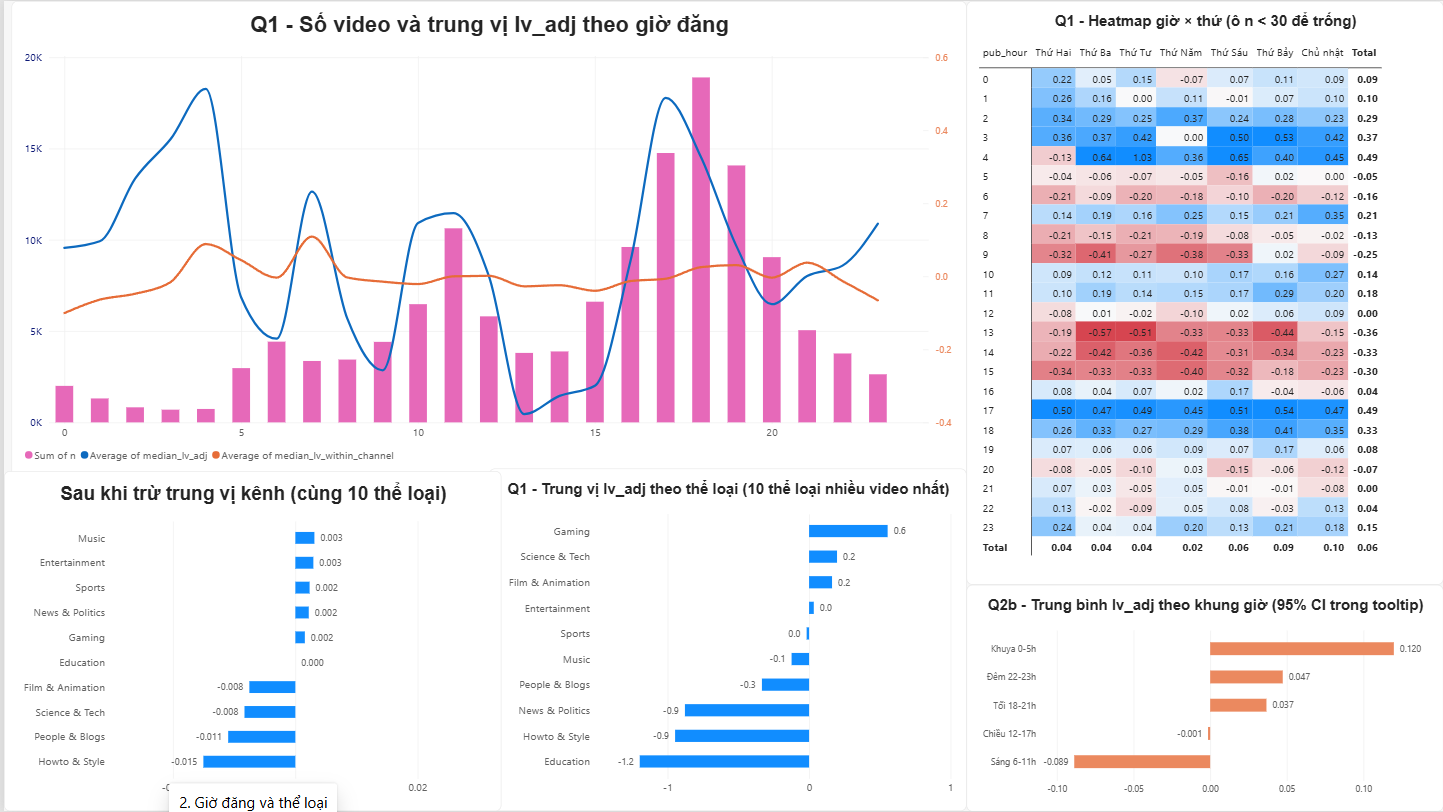

The dashboard page shown, as its layout file describes it:
{"tool":"powerbi","page":{"name":"2. Giờ đăng và thể loại","canvas":[1920,1080],"ordinal":1},"visuals":[{"type":"lineClusteredColumnComboChart","title":"Q1 - Số video và trung vị lv_adj theo giờ đăng","fields":{"Category":["q1_by_hour.pub_hour"],"Y":["Sum(q1_by_hour.n)"],"Y2":["Avg(q1_by_hour.median_lv_adj)","Avg(q1_by_hour.median_lv_within_channel)"]},"box":[10.5,0,1273.3,636.6],"z":0},{"type":"pivotTable","title":"Q1 - Heatmap giờ × thứ (ô n < 30 để trống)","fields":{"Columns":["q1_heatmap.dow_name"],"Rows":["q1_heatmap.pub_hour"],"Values":["Avg(q1_heatmap.median_lv_adj_masked)"]},"box":[1284,0,636,778],"z":1000},{"type":"clusteredBarChart","title":"Q1 - Trung vị lv_adj theo thể loại (10 thể loại nhiều video nhất)","fields":{"Category":["q1_by_category.category_name"],"Y":["Avg(q1_by_category.median_lv_adj)"]},"box":[647.1,622.7,636.6,457],"z":2000},{"type":"clusteredBarChart","title":"Sau khi trừ trung vị kênh (cùng 10 thể loại)","fields":{"Category":["q1_by_category.category_name"],"Y":["Avg(q1_by_category.median_lv_within_channel)"]},"box":[0,626.2,663.3,453.3],"z":3000},{"type":"clusteredBarChart","title":"Q2b - Trung bình lv_adj theo khung giờ (95% CI trong tooltip)","fields":{"Category":["q2b_group_means.group"],"Y":["Avg(q2b_group_means.mean_lv_adj)"]},"box":[1284,778,636,302],"z":4000}]}

Visuals, with their boxes in screenshot pixels (x1, y1, x2, y2), scaled from the page's 1920x1080 canvas onto the 1443x812 screenshot:
"Q1 - Số video và trung vị lv_adj theo giờ đăng" lineClusteredColumnComboChart: box(8, 0, 965, 479)
"Q1 - Heatmap giờ × thứ (ô n < 30 để trống)" pivotTable: box(965, 0, 1442, 585)
"Q1 - Trung vị lv_adj theo thể loại (10 thể loại nhiều video nhất)" clusteredBarChart: box(486, 468, 965, 811)
"Sau khi trừ trung vị kênh (cùng 10 thể loại)" clusteredBarChart: box(0, 471, 499, 811)
"Q2b - Trung bình lv_adj theo khung giờ (95% CI trong tooltip)" clusteredBarChart: box(965, 585, 1442, 811)
